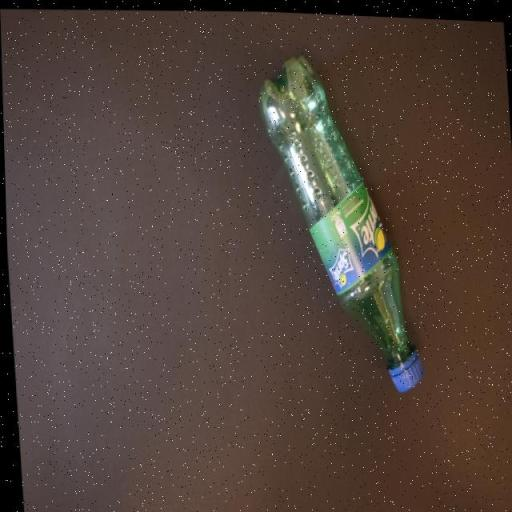plastic: (255, 48, 423, 396)
